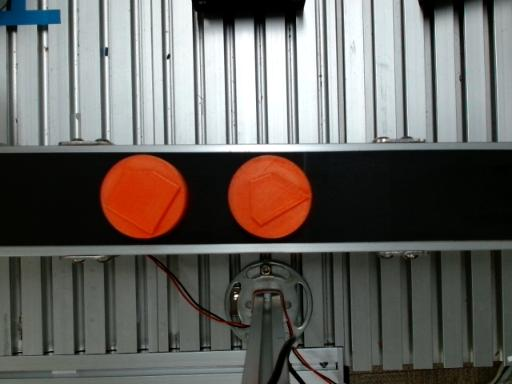Not_Square: (106, 167, 180, 234), (250, 173, 311, 225)
Orange_Waper: (100, 154, 188, 238), (228, 155, 312, 238)
